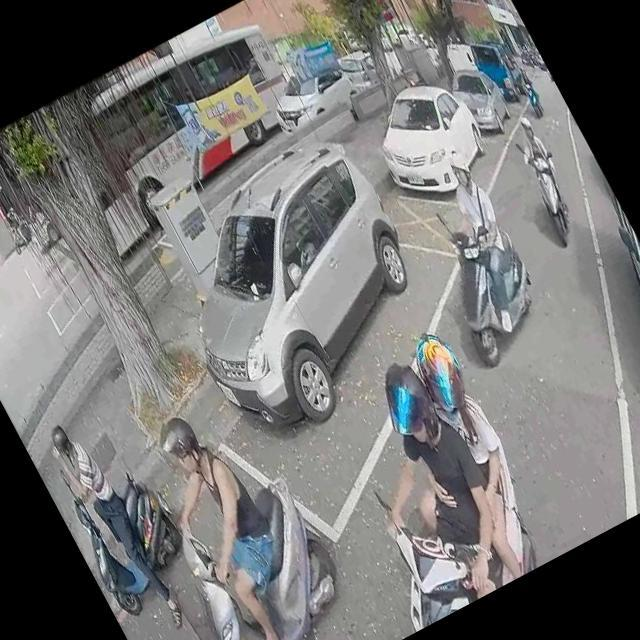person: (317, 353, 535, 623), (349, 333, 562, 604), (127, 397, 329, 640), (37, 410, 191, 640), (414, 152, 546, 336), (503, 115, 582, 229), (515, 66, 542, 106), (5, 208, 29, 245)
